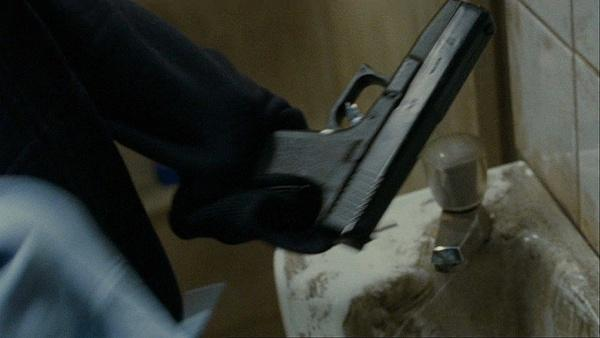Gun: (249, 0, 506, 250)
